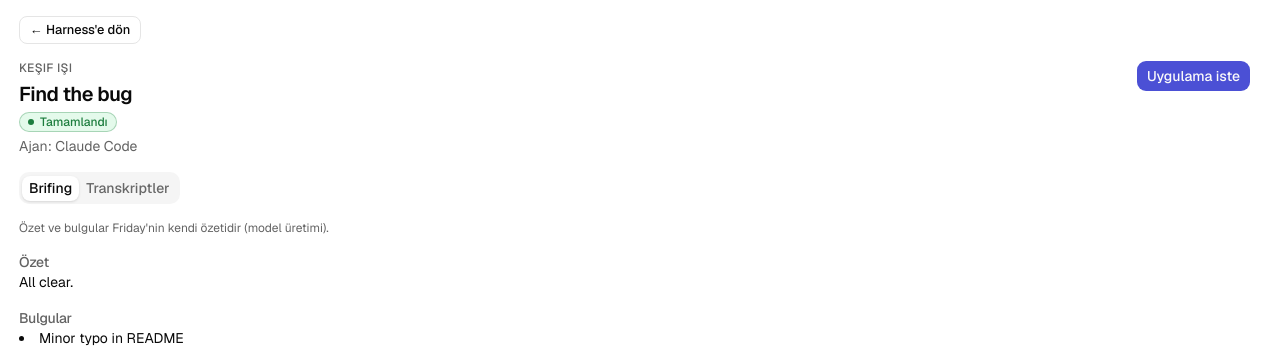
Test case: HarnessJobDetail › shows the summary and findings distinctly from the collapsed raw transcript
The width and height of the screenshot is (1268, 364).
expect the text "All clear." is shown: met, box [19,273,73,291]
expect the list item "Minor typo in README" is shown: met, box [39,329,184,347]
Click the tab "Transkriptler": (128, 188) [79,176,177,200]
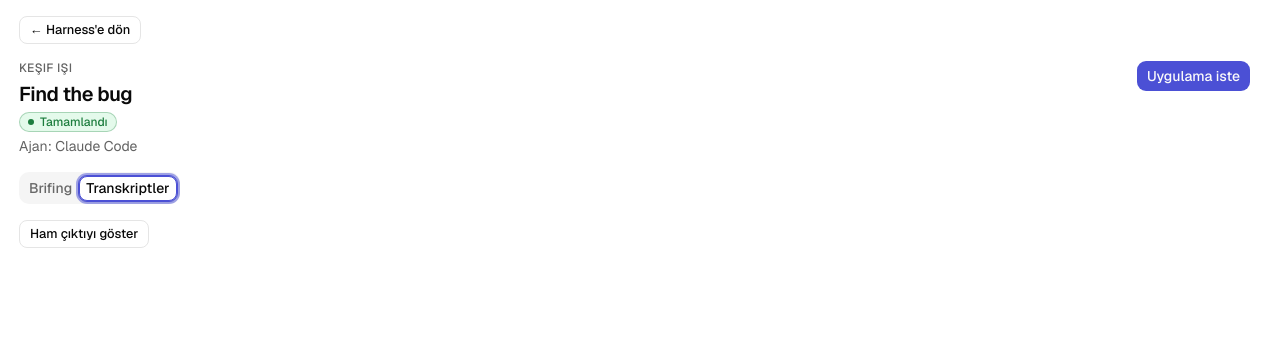
expect the text "the CLI's own raw output" is not shown: met
expect the text "All clear." is gone: met
Click the button "Ham çıktıyı göster": (84, 234) [19,220,149,248]
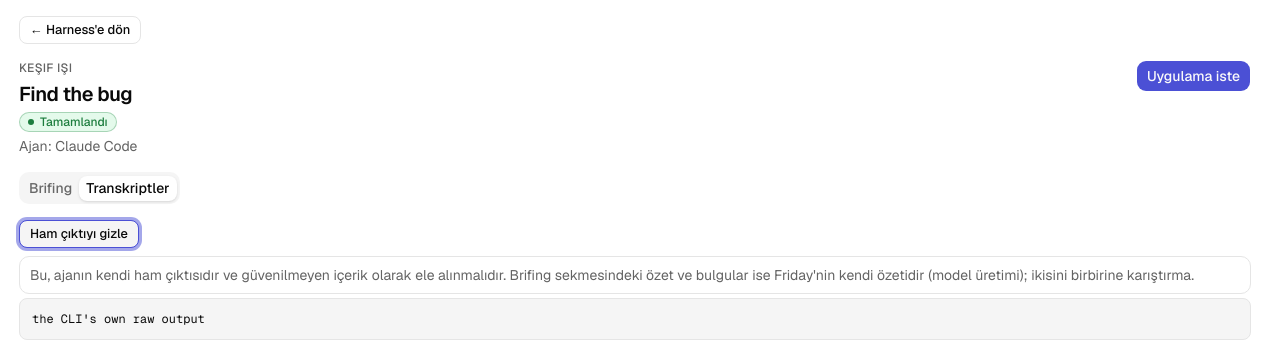
expect the text "the CLI's own raw output" is shown: met, box [19,298,1251,340]
